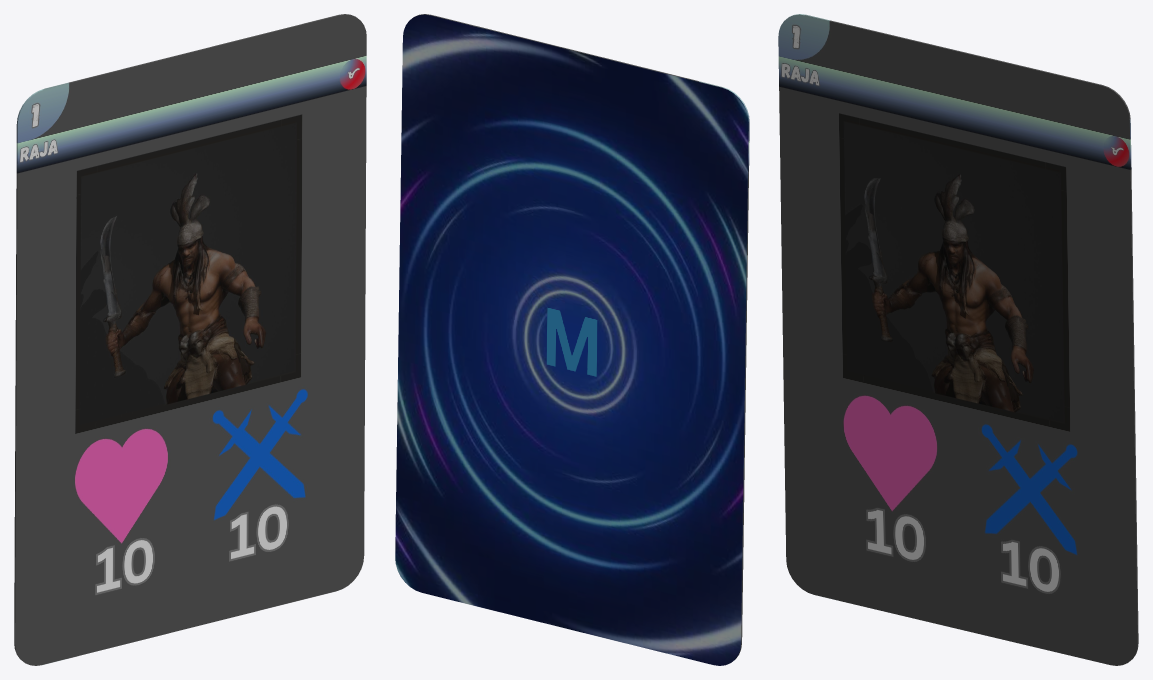
File: Raja.glb
The picture shows the model from 3 angles, left to right: view 1: azimuth 30°, elevation 25°; view 2: azimuth 150°, elevation 25°; view 3: azimuth 330°, elevation 25°; orthographic projection.
Parts seen in each view (by area): view 1: Card; view 2: Card; view 3: Card.
Part boxes in pixels (x1,y1,x2,y2): Card: [14, 14, 366, 665]; Card: [395, 14, 749, 665]; Card: [778, 14, 1138, 665].
Size of the model in its own units: 0.0564 by 0.0891 by 0.00197.
2 materials, 2 textured.
